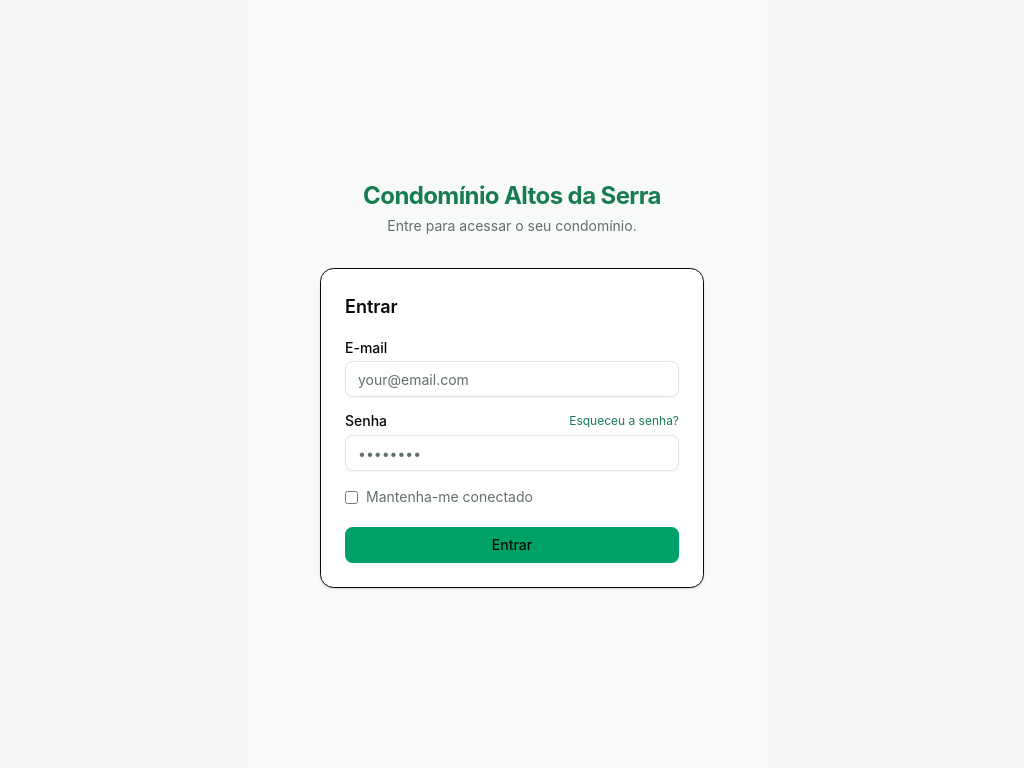
Test case: anonymous login at /c/<slug> (real providers) › lands an anonymous member inside that condominium at /
expect the heading "Condomínio Altos da Serra" is shown: met, box x1=363 y1=180 x2=661 y2=212
In the field labelled "E-mail": (512, 379) x1=345 y1=361 x2=679 y2=397, type "visitor@test.com"
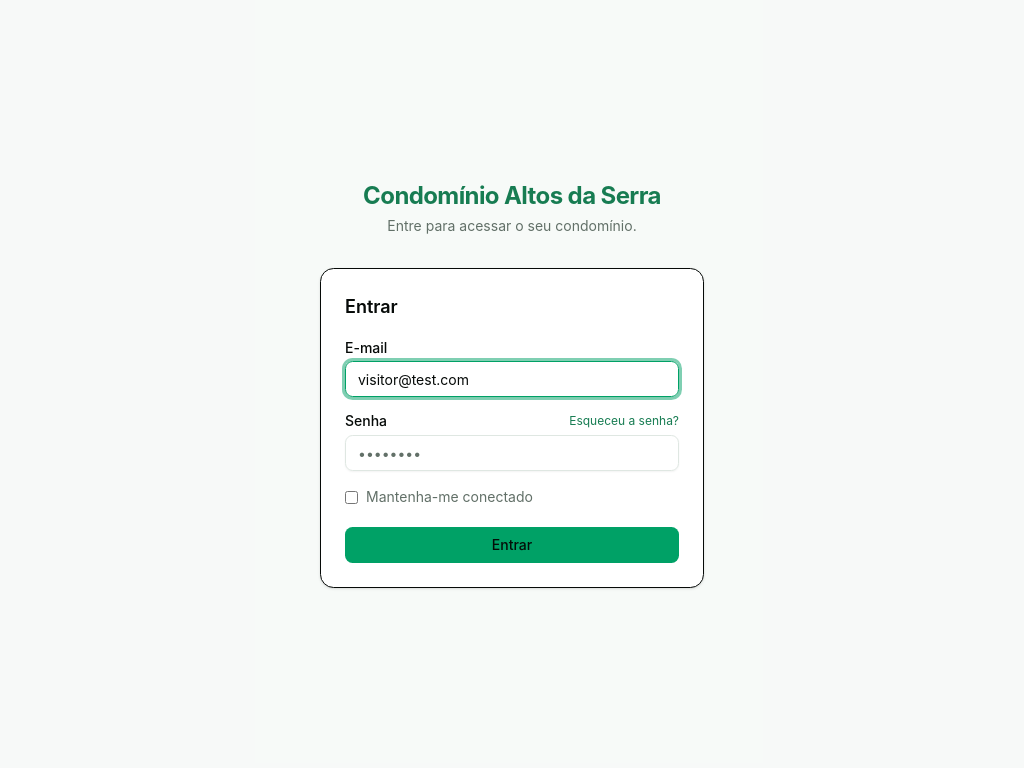
In the password field labelled "Senha": (512, 453) x1=345 y1=435 x2=679 y2=471, type "secret"
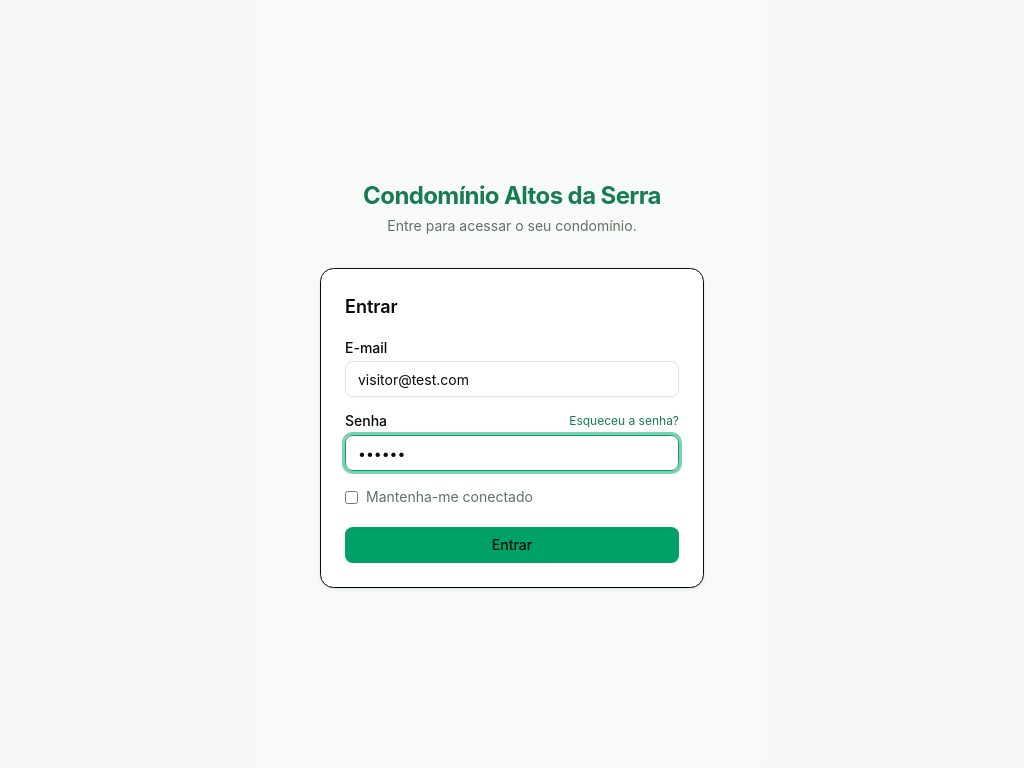
Click the button "Entrar": (512, 545) x1=345 y1=527 x2=679 y2=563
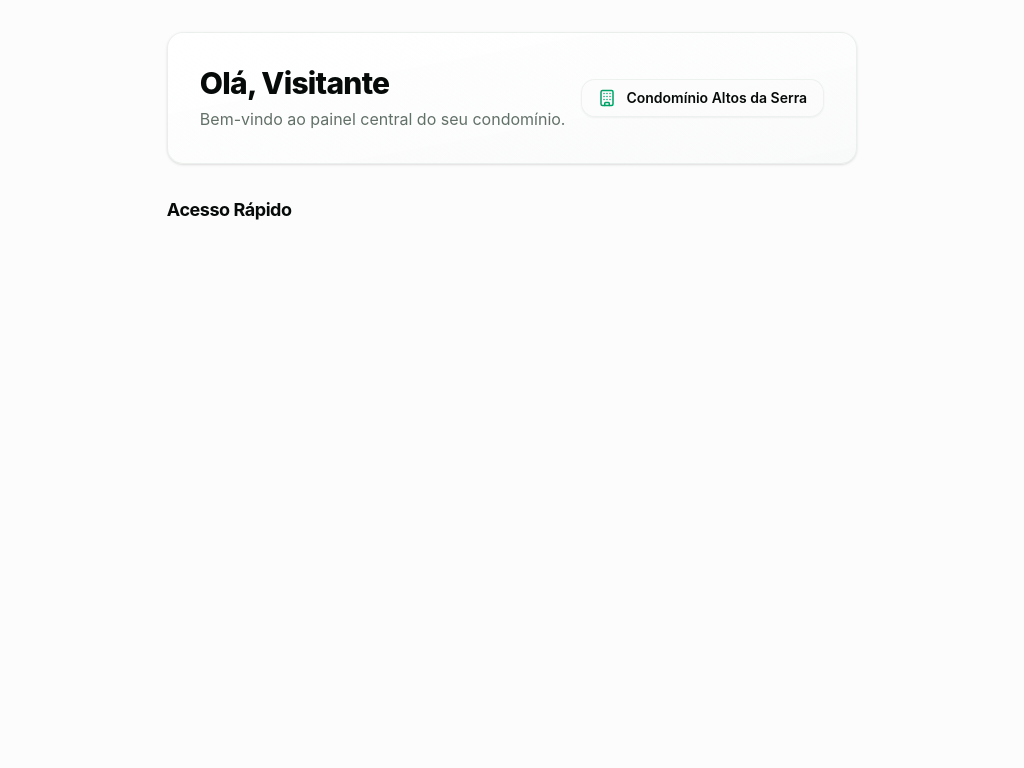
expect the text "Bem-vindo ao painel central do seu condomínio." is shown: met, box x1=200 y1=107 x2=566 y2=131
